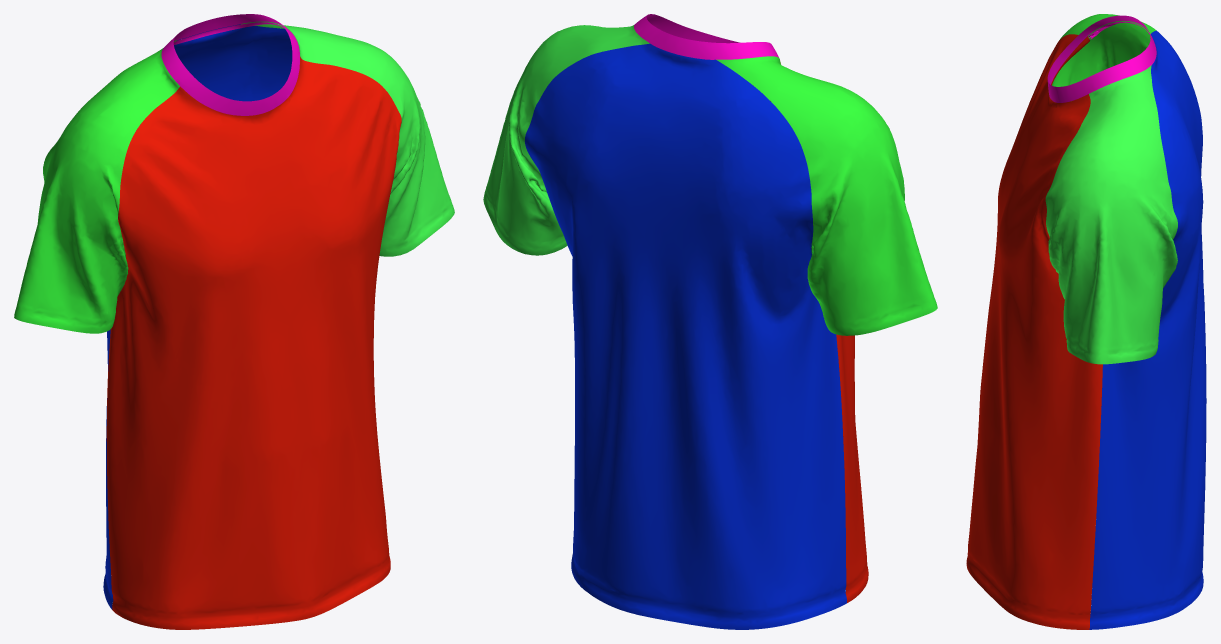
Rendered from TSHIRT.glb.
3 renders of one model, left to right at view 1: azimuth 30°, elevation 25°; view 2: azimuth 150°, elevation 25°; view 3: azimuth 270°, elevation 25°, orthographic. The views are drawn at different scales.
Parts seen in each view (by area): view 1: default001, default001_4, default001_3, default001_1, default001_2; view 2: default001_1, default001_4, default001_3, default001, default001_2; view 3: default001, default001_1, default001_3, default001_4, default001_2.
Boxes of the visible parts, bbox=[...] form: default001: bbox=[106, 56, 401, 629]; default001_4: bbox=[14, 40, 179, 333]; default001_3: bbox=[241, 21, 454, 256]; default001_1: bbox=[103, 24, 292, 609]; default001_2: bbox=[161, 14, 299, 115]; default001_1: bbox=[524, 43, 846, 629]; default001_4: bbox=[716, 56, 937, 335]; default001_3: bbox=[483, 25, 649, 255]; default001: bbox=[770, 62, 868, 602]; default001_2: bbox=[634, 14, 778, 59]; default001: bbox=[966, 34, 1102, 629]; default001_1: bbox=[1089, 30, 1206, 629]; default001_3: bbox=[1045, 65, 1177, 364]; default001_4: bbox=[1052, 14, 1156, 86]; default001_2: bbox=[1047, 15, 1156, 102].
Bounding box in the file's own units: 23.66 × 28.07 × 11.39.
